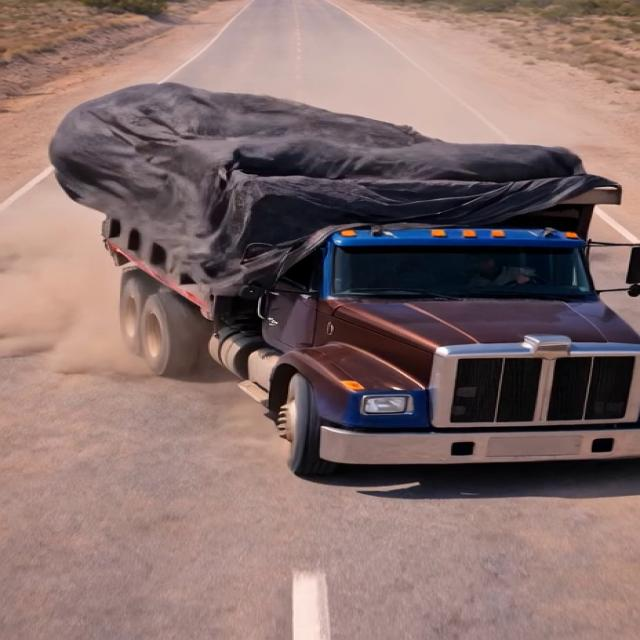Box: (45, 78, 620, 221)
Truck: (29, 63, 636, 496)
